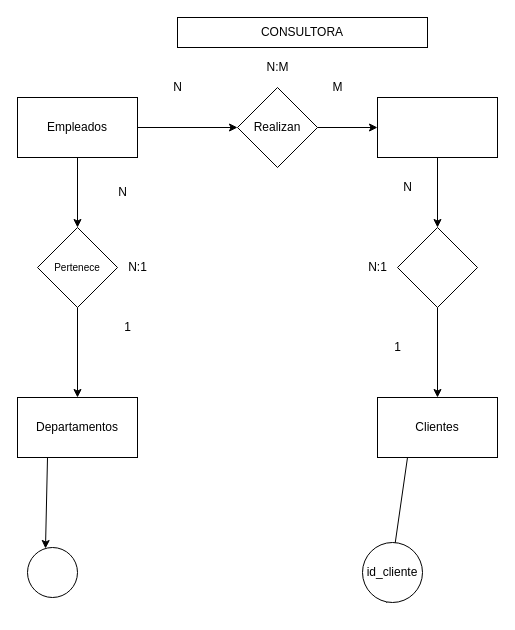
The diagram is 515 pixels wide and 630 high, and some of its shapes have lost their labels. The shapes that lost their labels are listed below. From the top down, each one's centre as x and y in pixels, then its label:
(437,127): Proyectos
(437,267): Tiene
(52,572): Nombre
